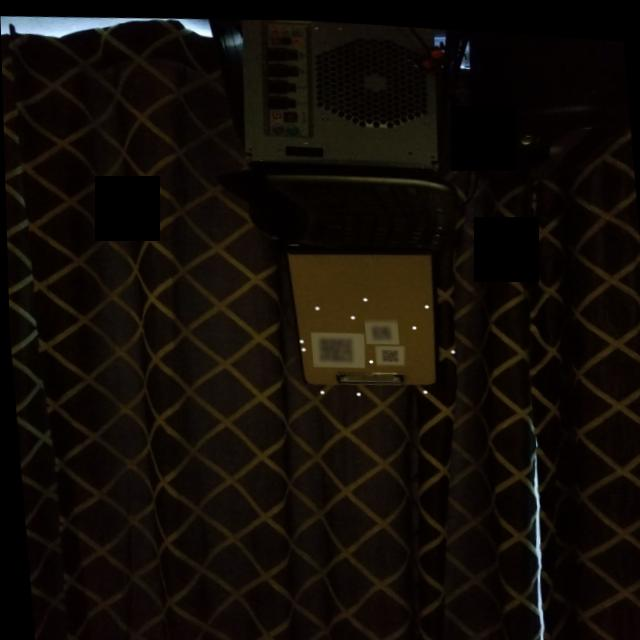QR_CODE: (309, 326, 357, 365), (363, 312, 397, 340), (373, 339, 404, 364)
